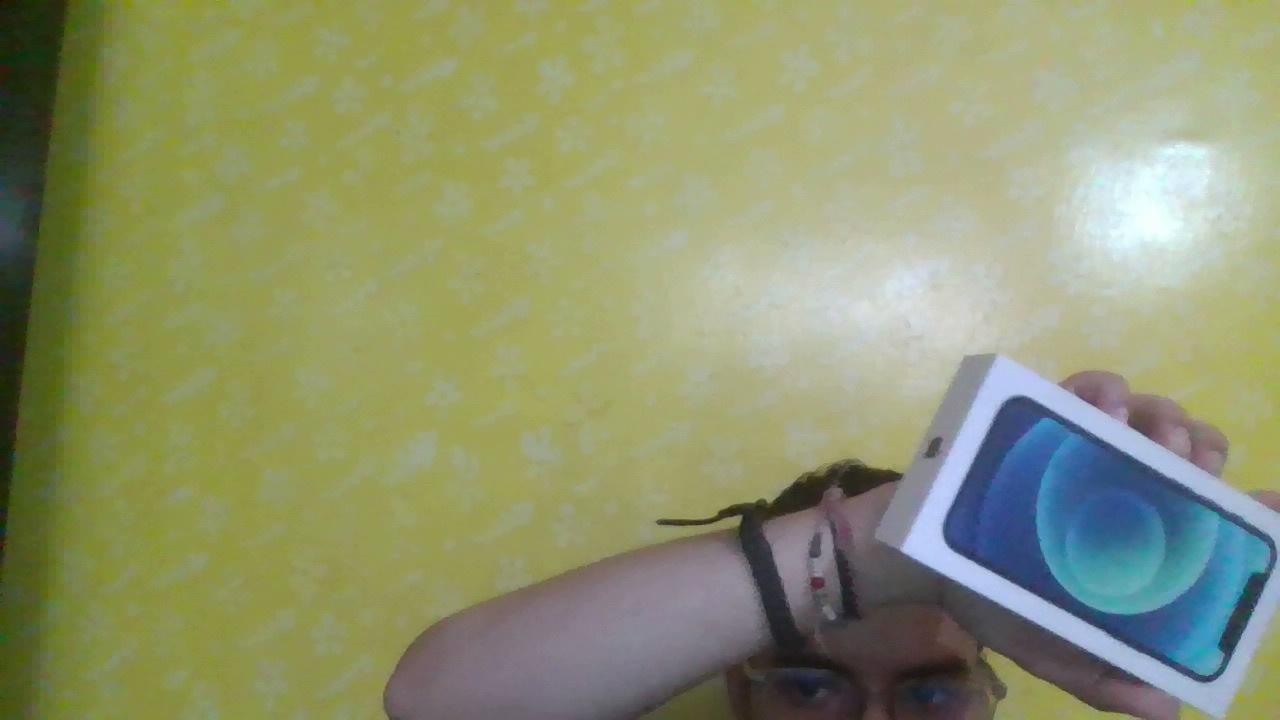Phone: (833, 297, 1280, 717)
